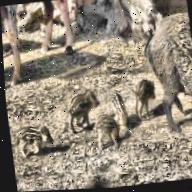boar: (12, 117, 62, 167), (57, 87, 107, 127), (128, 66, 164, 117), (91, 108, 128, 156), (104, 86, 138, 130)
